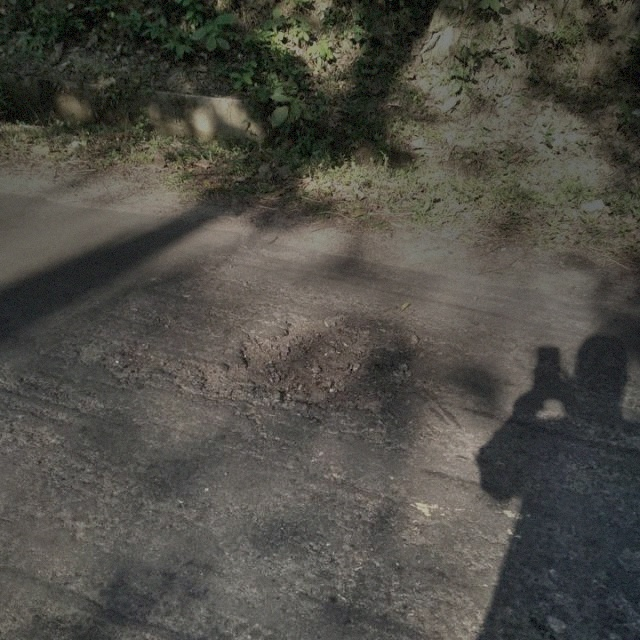pothole: (190, 309, 385, 419)
